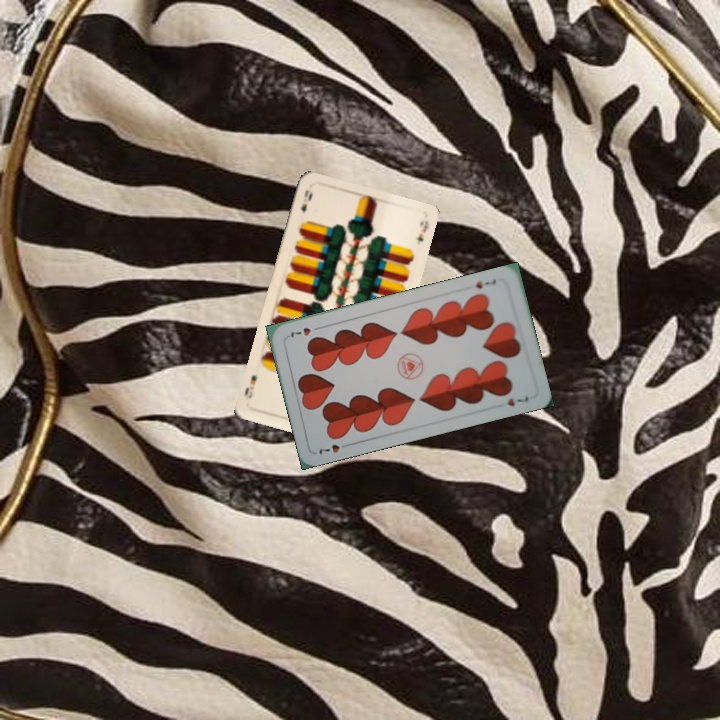E9: (296, 186, 315, 216)
H7: (315, 439, 353, 457), (472, 275, 499, 291)
